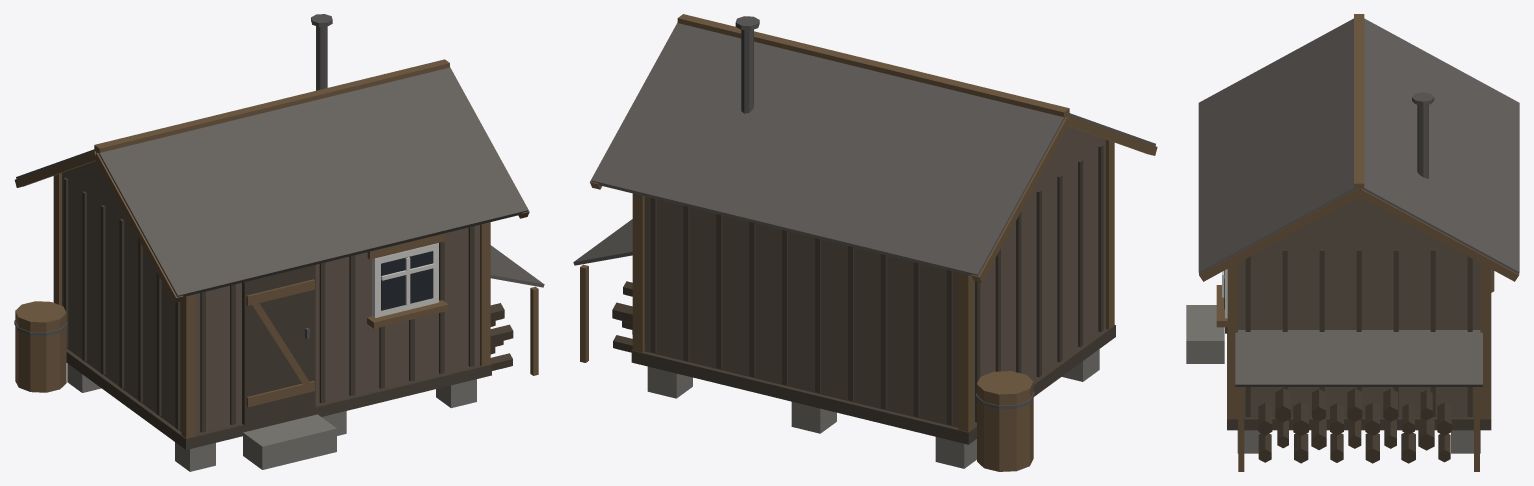
The model's file is Scenery_Hut.fbx.
3 views of the same model, side by side, from view 1: azimuth 30°, elevation 25°; view 2: azimuth 150°, elevation 25°; view 3: azimuth 270°, elevation 25° (orthographic). The views are drawn at different scales.
Visible parts, largest first — view 1: Scenery_Hut_Mesh; view 2: Scenery_Hut_Mesh; view 3: Scenery_Hut_Mesh.
Part boxes in pixels (left/top/right/bottom): Scenery_Hut_Mesh: left=14, top=14, right=544, bottom=471; Scenery_Hut_Mesh: left=573, top=14, right=1157, bottom=471; Scenery_Hut_Mesh: left=1186, top=14, right=1519, bottom=471.
Size of the model in its own units: 5.47 by 4.23 by 3.91.
